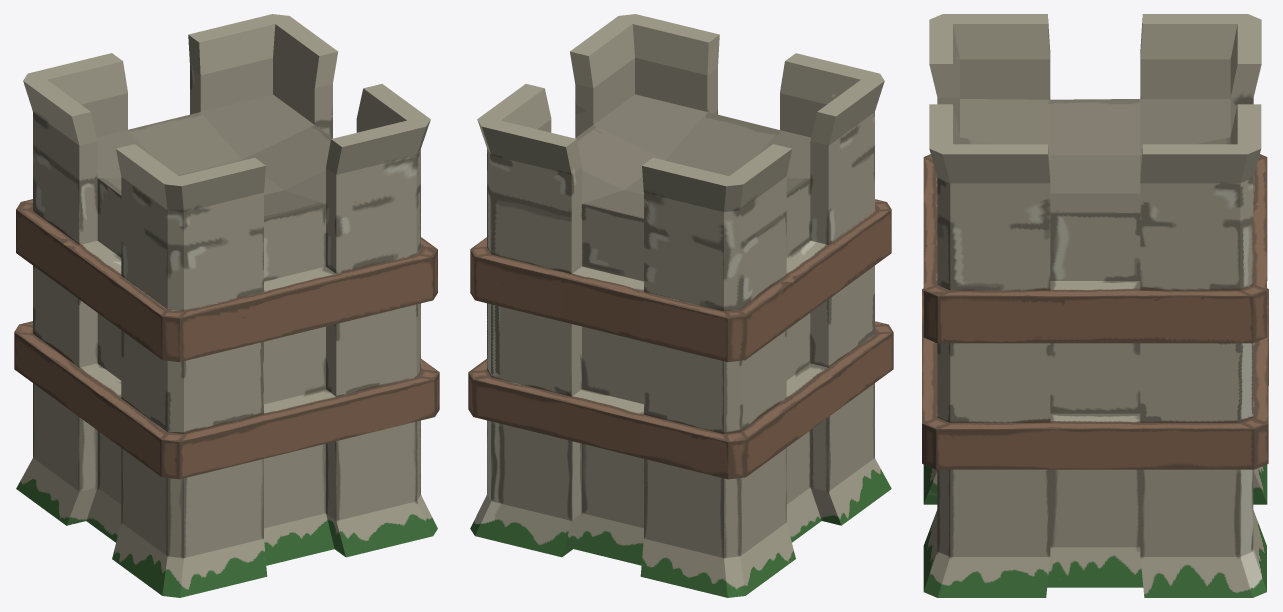
Rendered from archertowerup.fbx.
The picture shows the model from 3 angles, left to right: view 1: azimuth 30°, elevation 25°; view 2: azimuth 150°, elevation 25°; view 3: azimuth 270°, elevation 25°; orthographic projection. The views are drawn at different scales.
Visible parts, largest first — view 1: ArcherTowerUp; view 2: ArcherTowerUp; view 3: ArcherTowerUp.
Part boxes in pixels (bbox=[...]): ArcherTowerUp: bbox=[14, 14, 439, 597]; ArcherTowerUp: bbox=[468, 14, 893, 597]; ArcherTowerUp: bbox=[922, 14, 1268, 597].
Size of the model in its own units: 0.7676 by 1.08 by 0.7685.
Materials: 1 (1 with a texture image).
